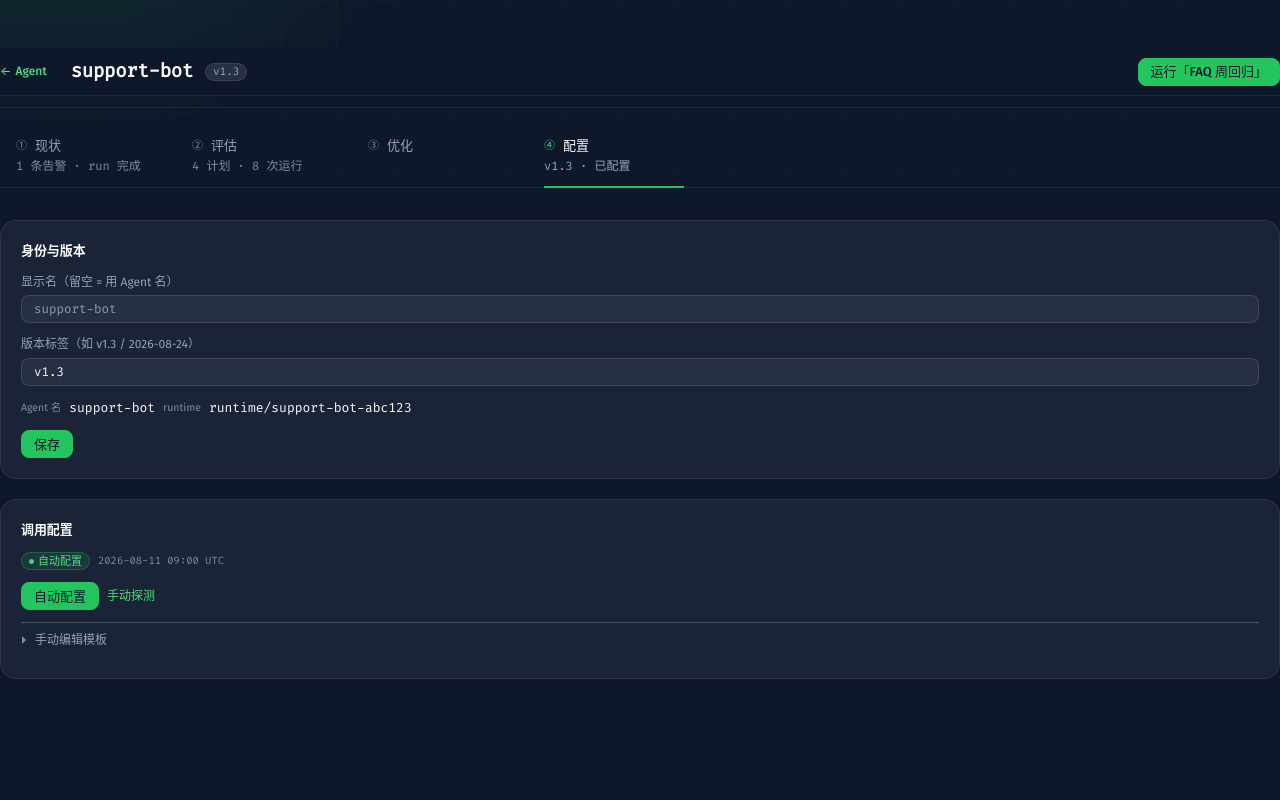
Test case: AgentDetailPage 自动配置 › 主按钮是「自动配置」，原探测保留为「手动探测」文字链且流程不变
Expected: the button with test id "agent-autoconf-btn" reads "自动配置", [21,582,99,610]
# 手动探测仍走既有 probe_agent_invoke
Click the button with test id "agent-config-probe": (131, 596) [107,588,155,604]
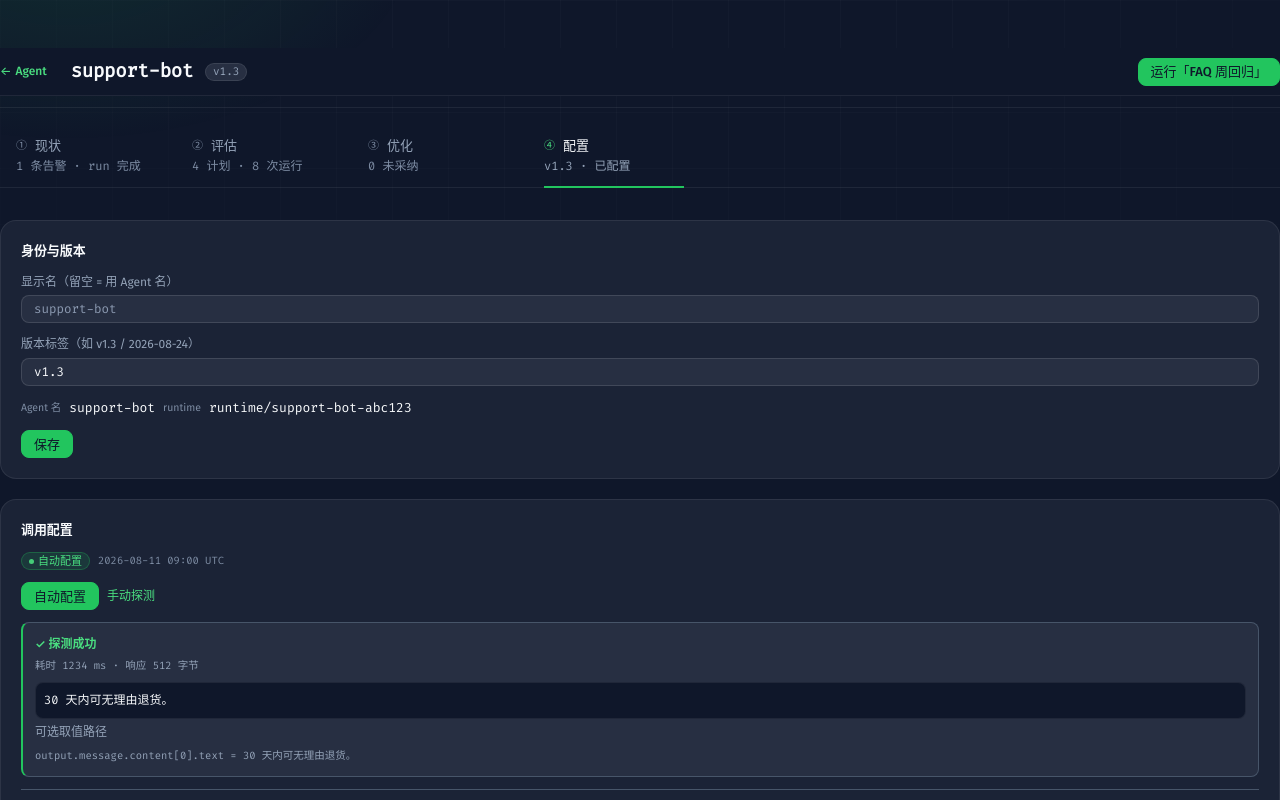
Expected: the text "✓ 探测成功" is shown, [35,637,96,651]
